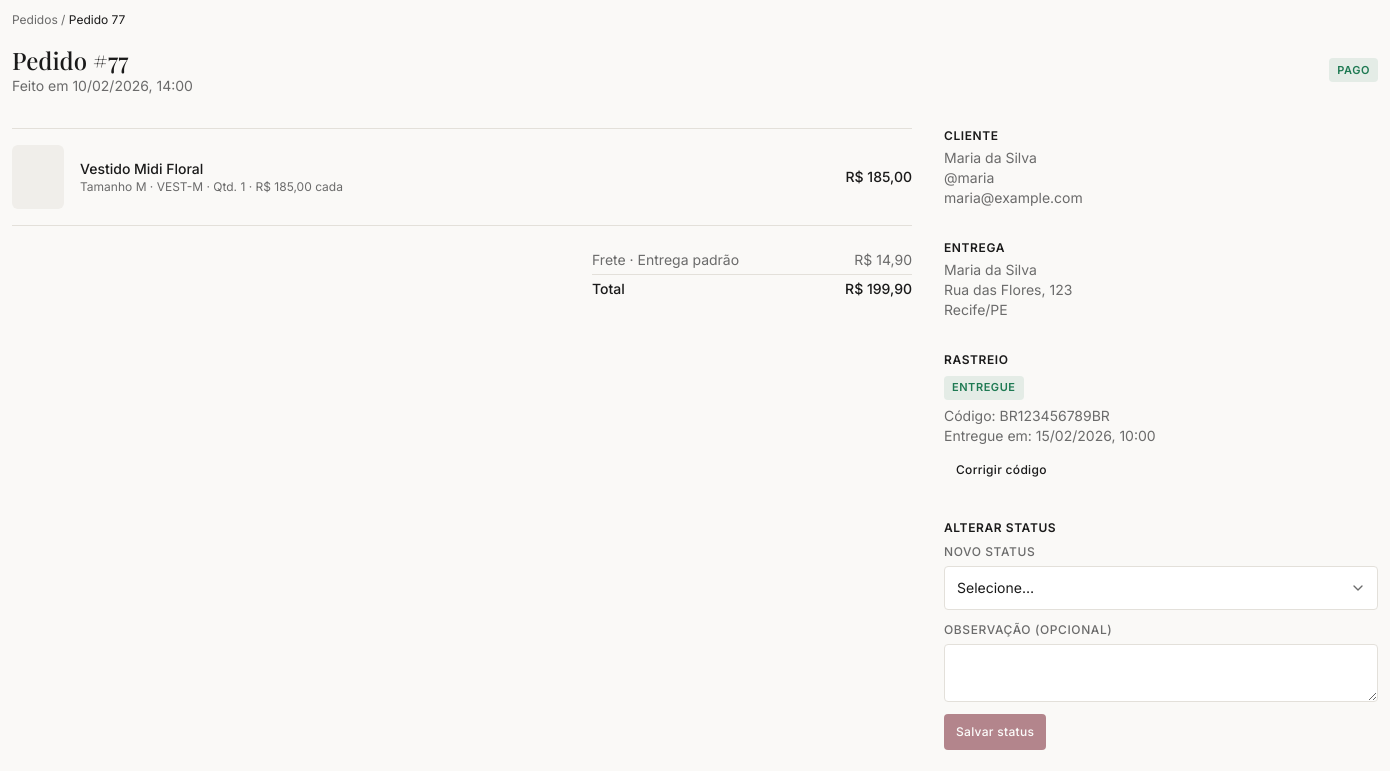
AdminPedidoDetalhe › pedido com rastreio ja registrado mostra status e permite corrigir o codigo
The width and height of the screenshot is (1390, 771).
Expected: the heading "Pedido #77" is shown, [12,44,128,76]
Expected: the text "Entregue" is shown, [944,376,1024,400]
Click the button "Corrigir código" at point(1001, 470), box [944,452,1059,488]
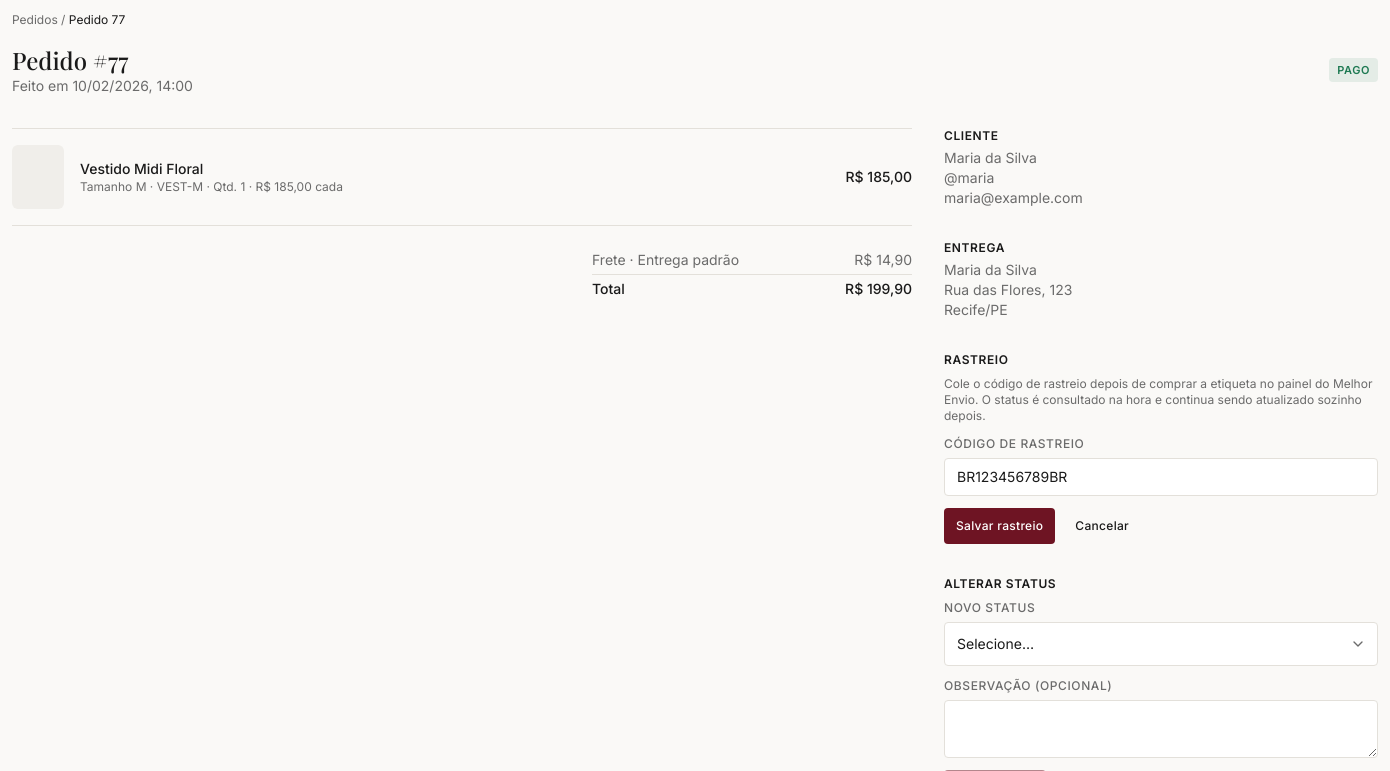
Expected: the field labelled "Código de rastreio" holds "BR123456789BR", [944,458,1378,496]
